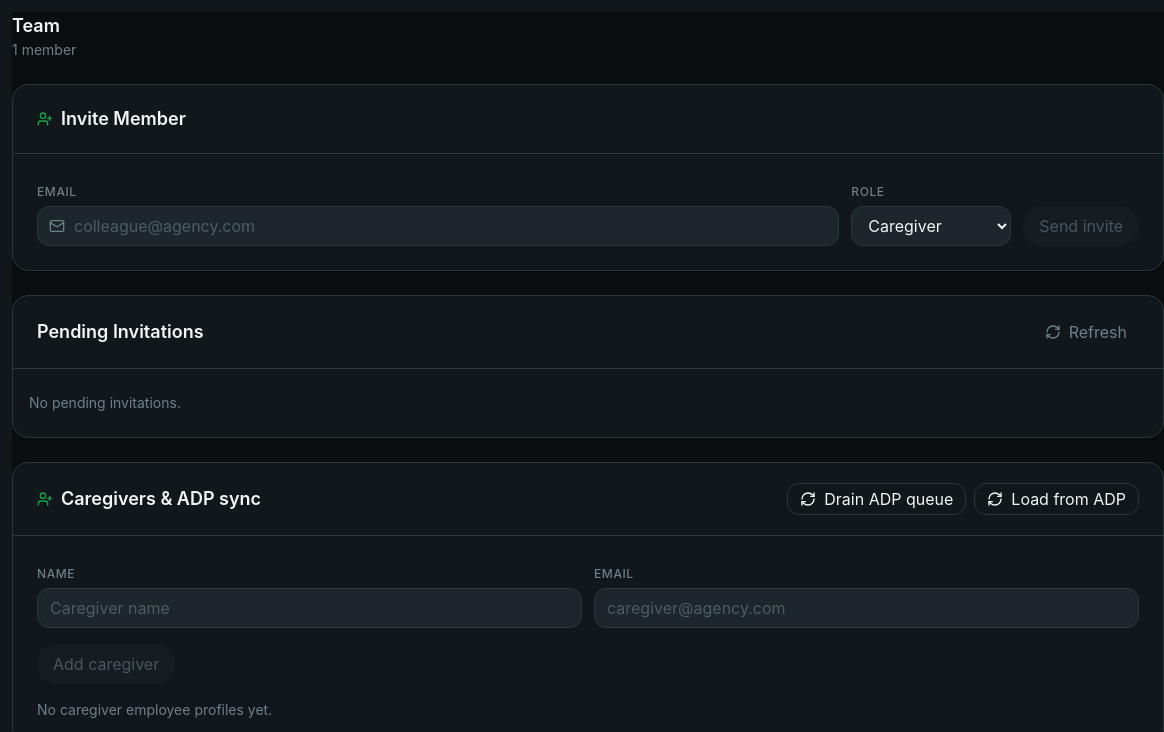
Test case: TeamPage › queues an ADP drain for pending rows
What coordinates should you click on to do the following:
click the button "Drain ADP queue"
I would click on:
 (877, 499)
Its box is [787,483,966,515].
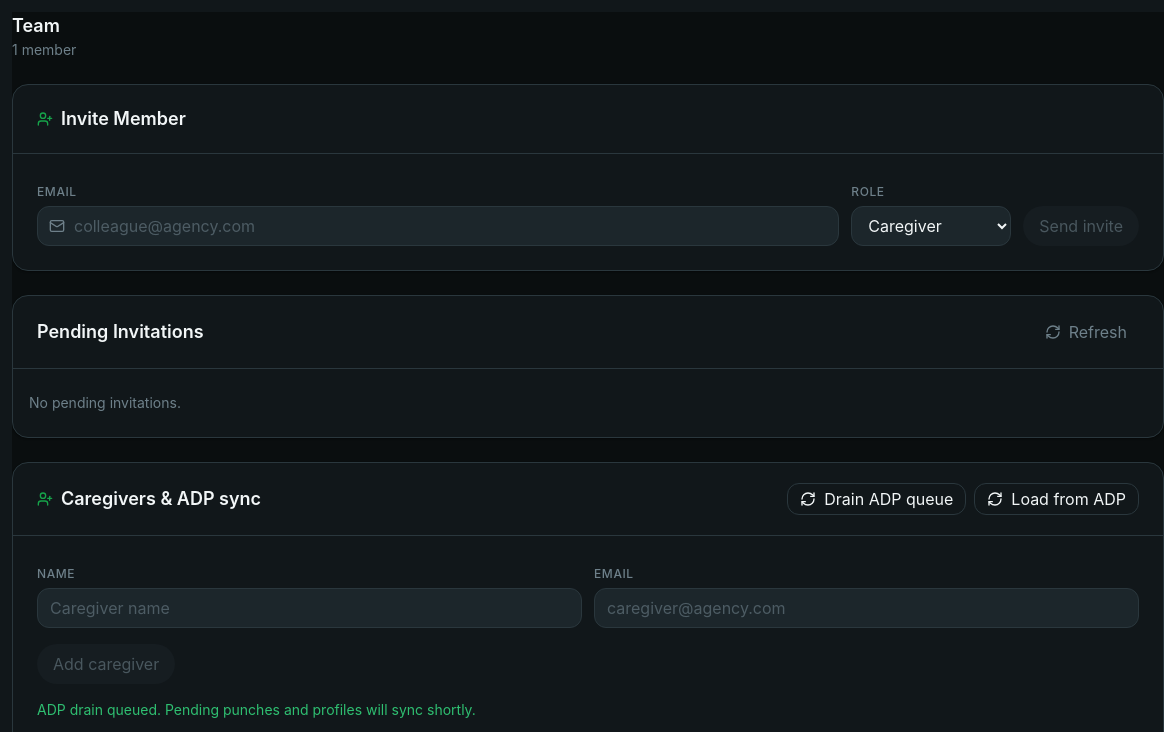
Check: the text "ADP drain queued" is shown, box [37,701,476,718]
